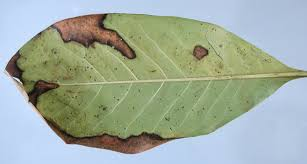unhealthy: (8, 6, 300, 157)
